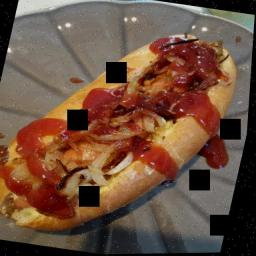hotdog: (0, 3, 254, 256)
